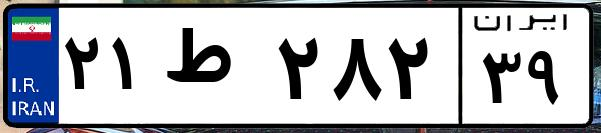1: (110, 28, 158, 98)
2: (270, 28, 330, 110), (385, 28, 445, 110), (57, 26, 110, 100)
3: (475, 38, 525, 113)
8: (330, 28, 385, 110)
9: (525, 38, 570, 115)
ط: (158, 20, 270, 120)
